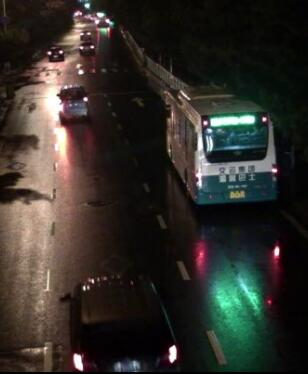bus: (160, 84, 280, 210)
car: (62, 275, 182, 370), (55, 82, 91, 126), (77, 40, 95, 55), (94, 12, 112, 27), (47, 44, 64, 59), (78, 28, 90, 40)
